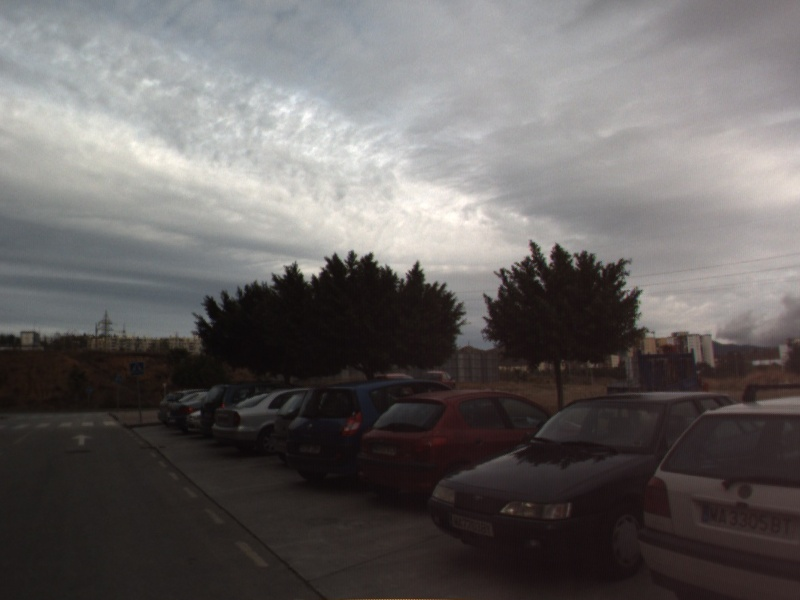STRAIGHT: (70, 431, 94, 447)
